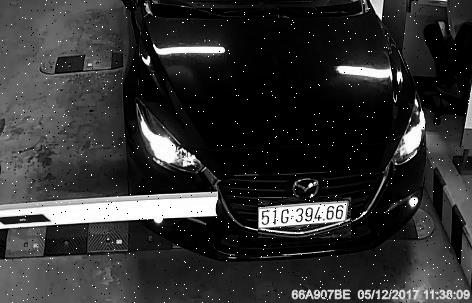License-plate: (260, 199, 354, 241)
